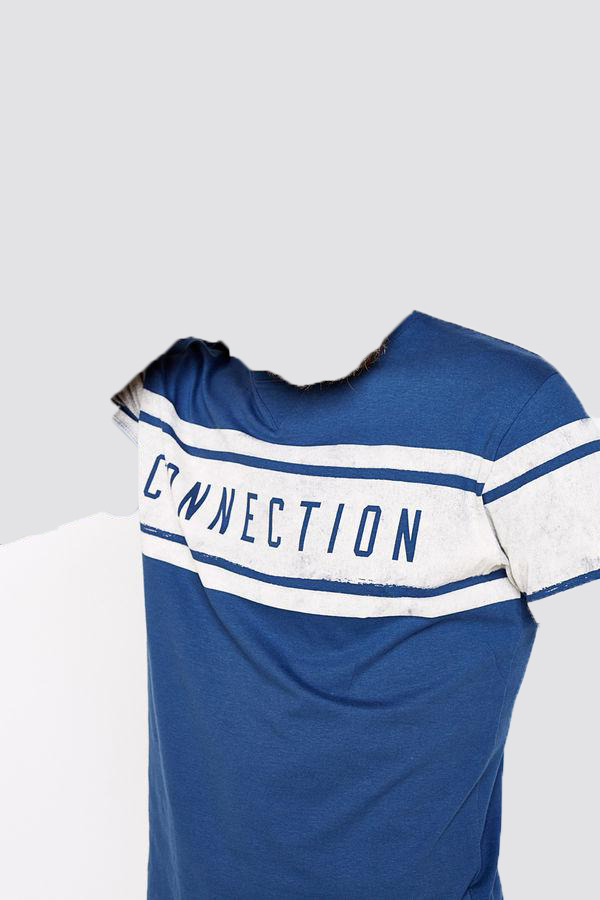teeshirt: (94, 310, 600, 899)
